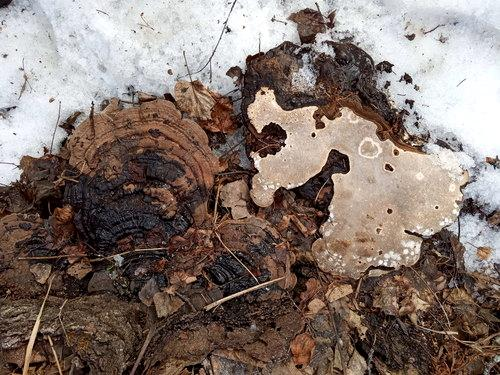Ganoderma - Fruit Body: (63, 96, 217, 260)
